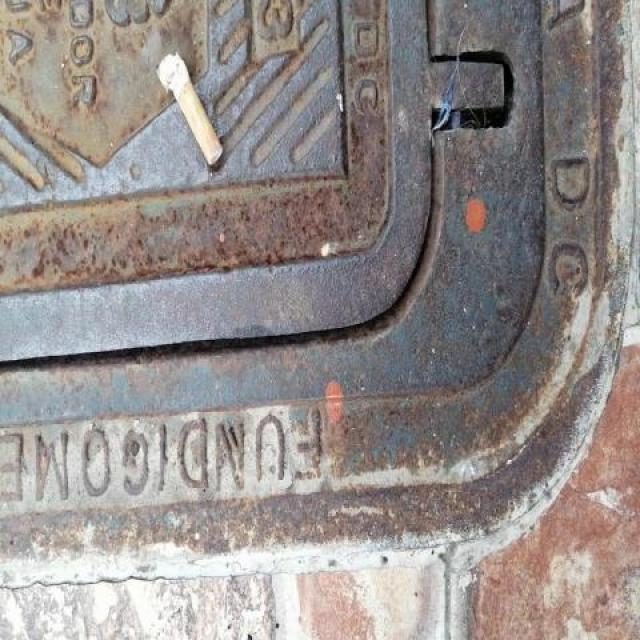non-organic waste: (153, 48, 228, 168)
